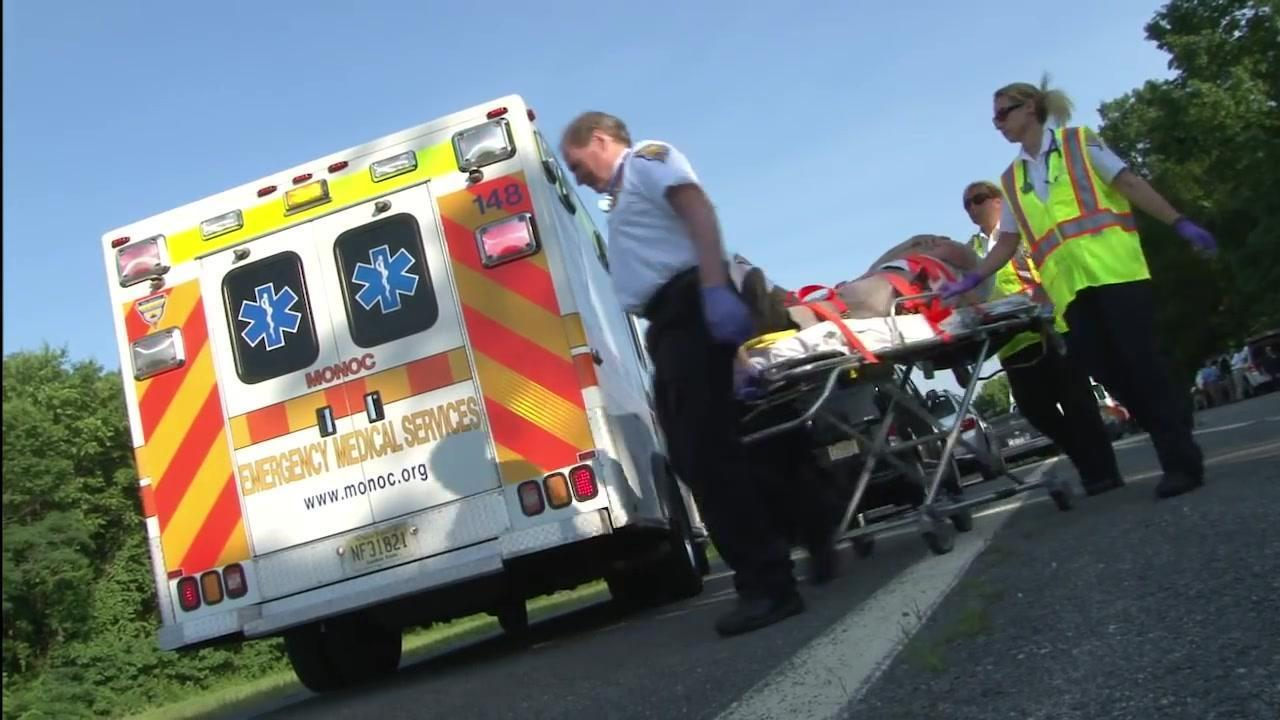vest: (989, 127, 1154, 333), (954, 235, 1050, 363)
